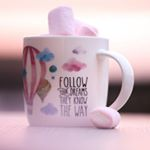cups: (20, 33, 136, 131)
